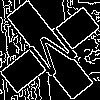M: (25, 25, 87, 87)
